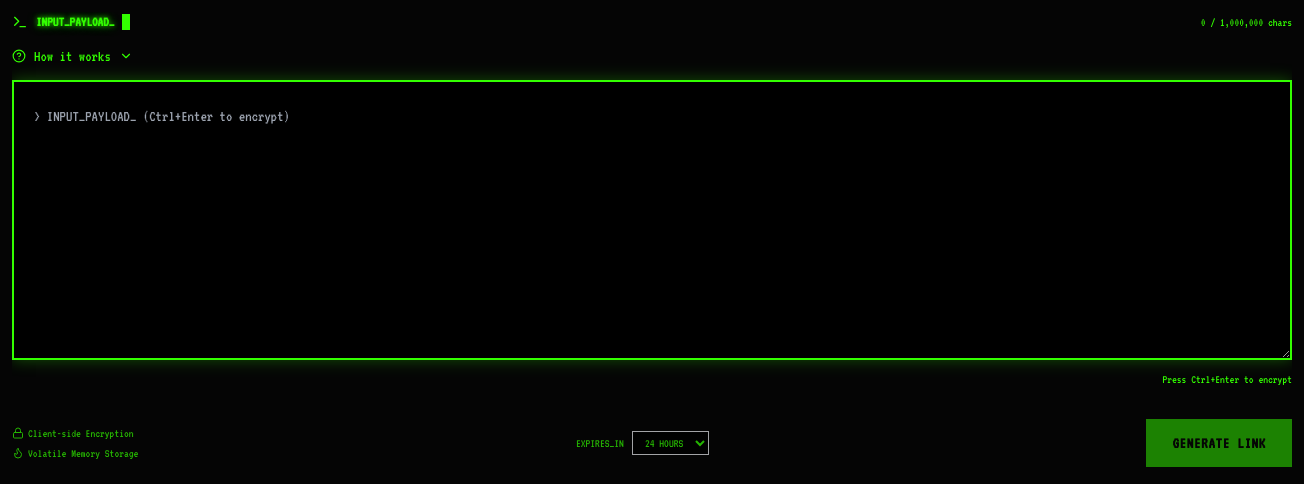
Scenario: CreateView › should show character count
The image size is (1304, 484).
In the text box: (652, 220) [12, 80, 1292, 360], type "hello"
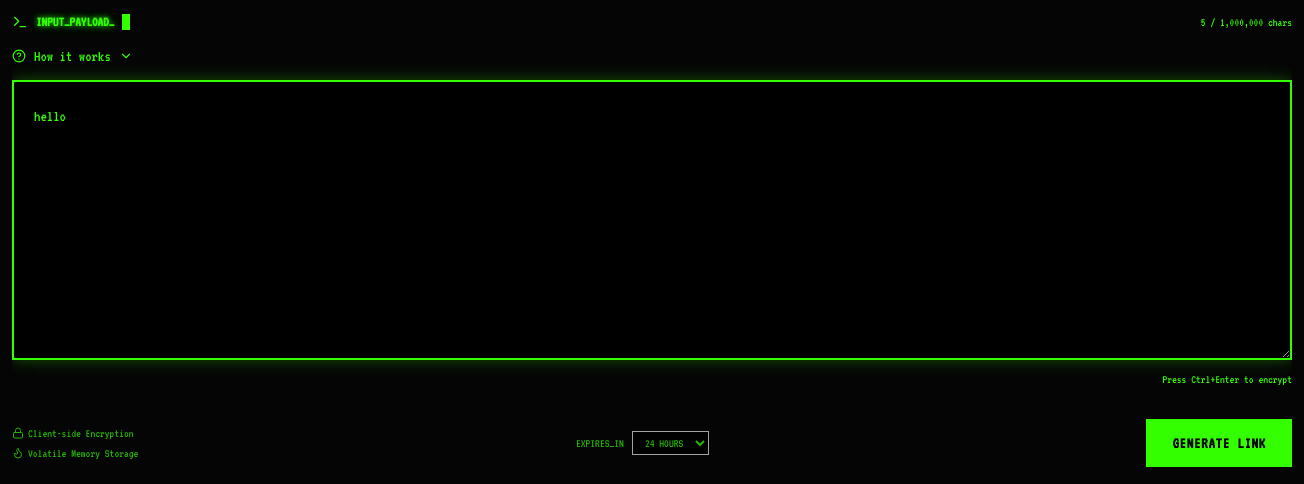
expect the text "5 / 1,000,000 chars" is shown: met, box [1201, 14, 1292, 30]
